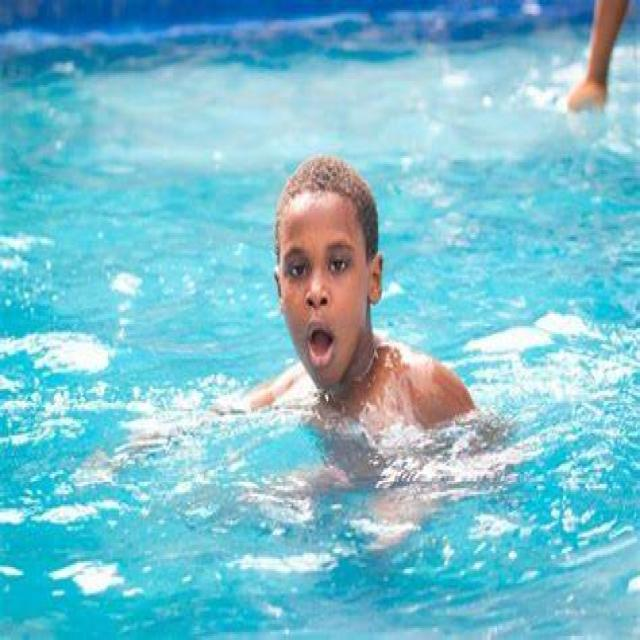swimming: (190, 125, 491, 482)
